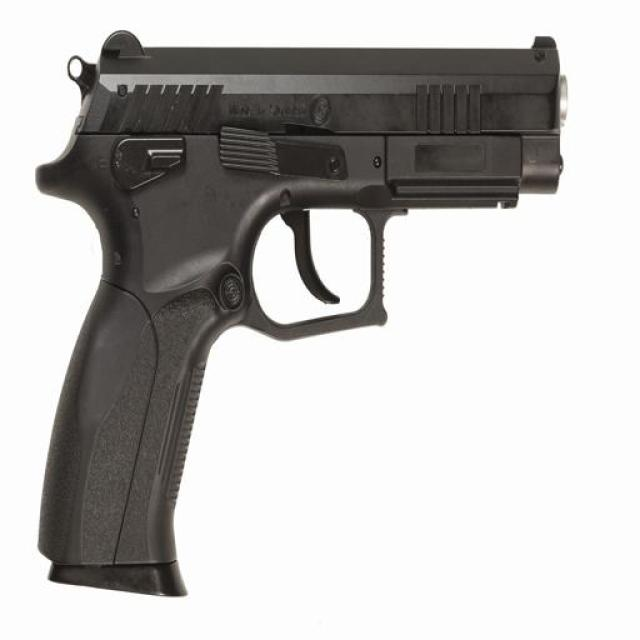pistol: (36, 29, 568, 595)
